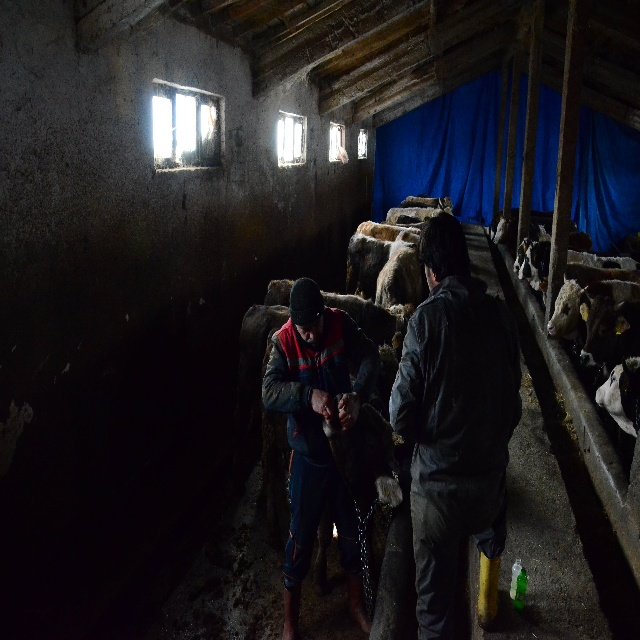Sin_guantes: (337, 392, 360, 431), (310, 388, 333, 421)
